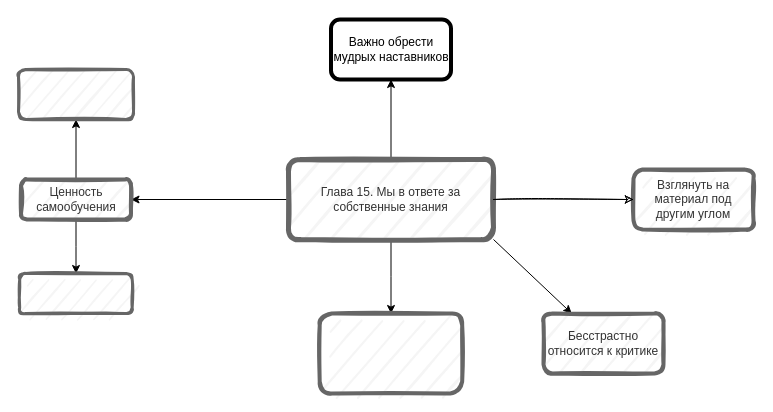
The diagram is 773 pixels wide and 412 high, and some of its shapes have lost their labels. Each missing label, with the box of its shape:
Понять свои ошибки и не повторять их в будущем: (317, 311, 464, 395)
Упорство — важнее ума: (18, 272, 133, 314)
Утветственность за собственные знания: (16, 68, 134, 120)
